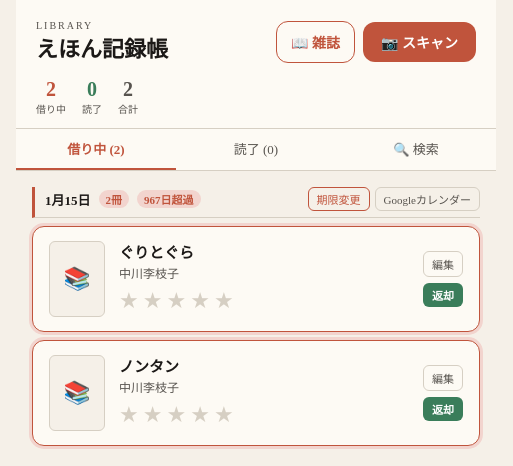
Test case: MainApp — tabs › when a search matches a title, it should show that book
Step 1. Click the button "🔍 検索" → coordinates (416, 150), box [336,129,496,170]
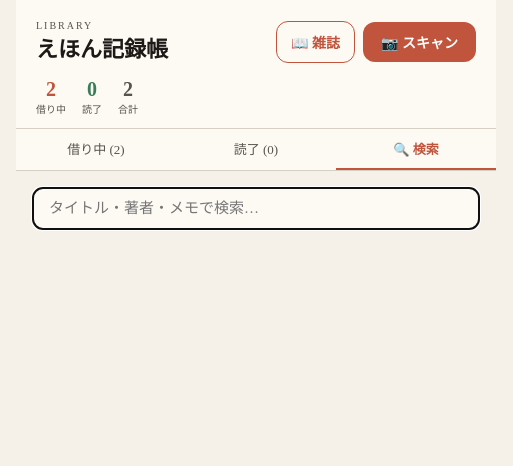
Step 2. Type "ぐり" into the field with placeholder "タイトル・著者・メモで検索…" → coordinates (256, 208), box [32,187,480,230]
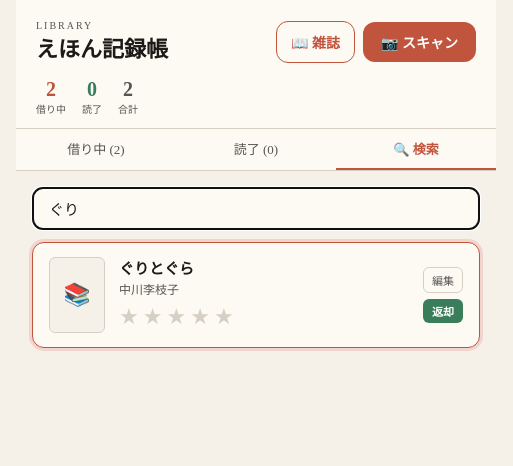
Check: the text "ノンタン" is not shown
Check: the text "ぐりとぐら" is shown, box [119,261,194,277]
